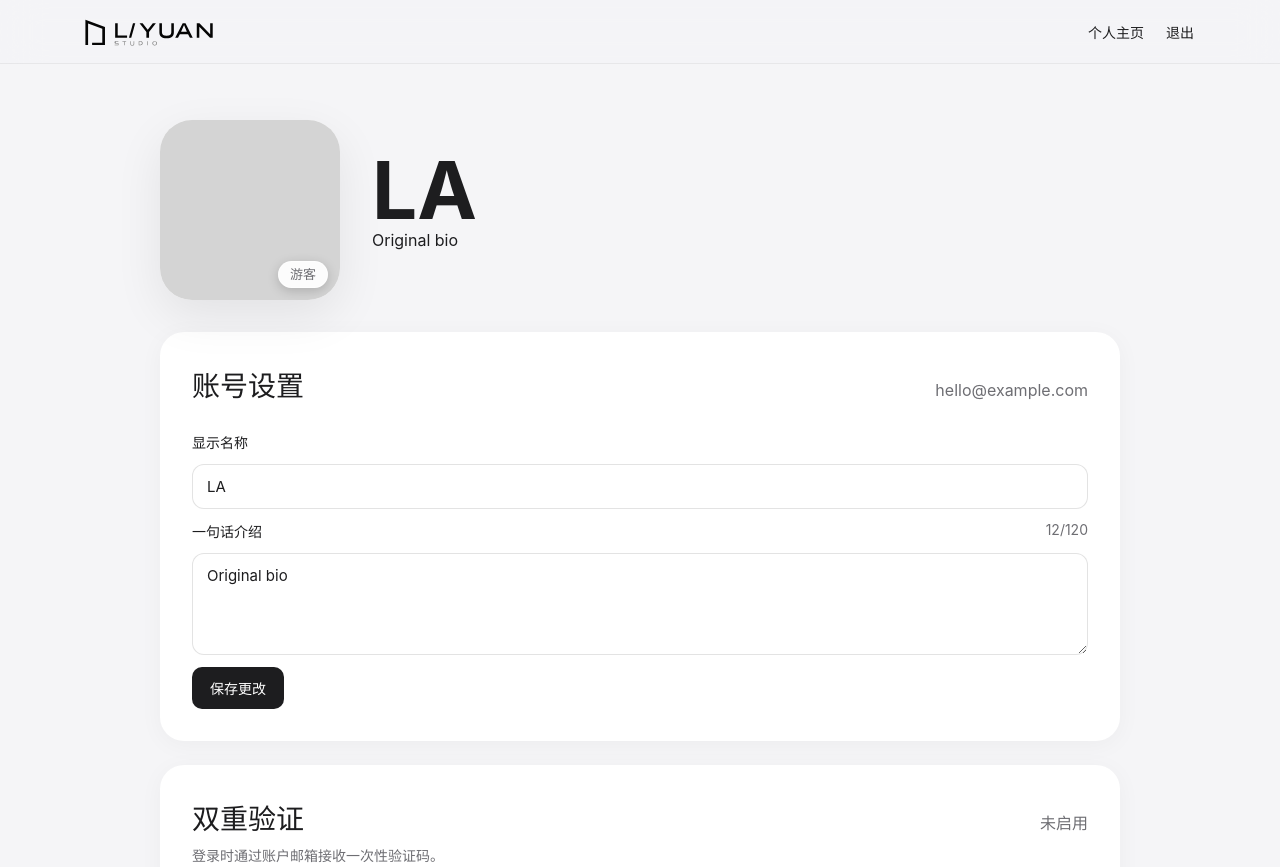
ProfilePage › saves profile changes
Expected: the heading "LA" is shown, [372, 150, 477, 230]
Expected: the button "退出" is shown, [1160, 20, 1200, 44]
Replace the text in the field labelled "显示名称" with "New LA" at x=640, y=486, box [192, 464, 1088, 509]
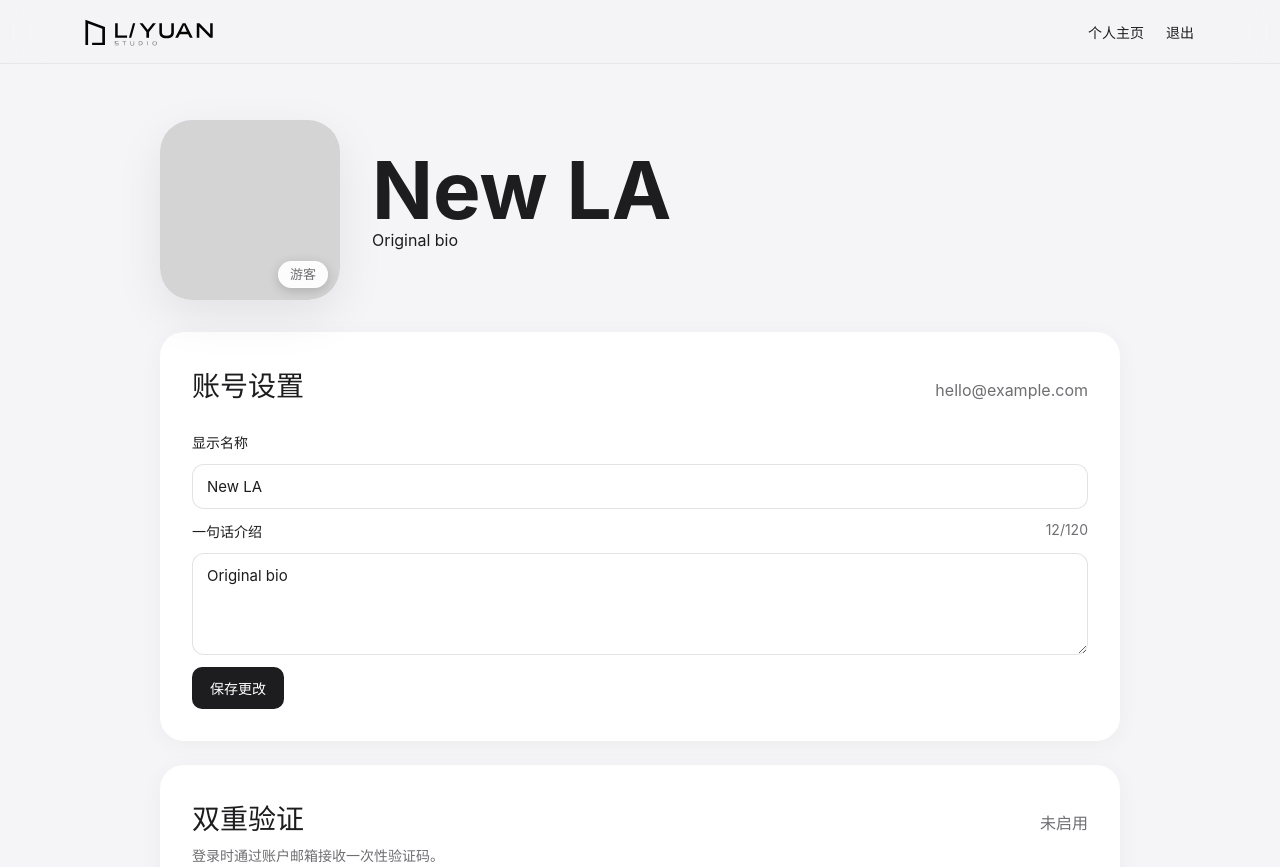
Replace the text in the text box labelled "一句话介绍" with "Updated bio" at x=640, y=604, box [192, 553, 1088, 655]
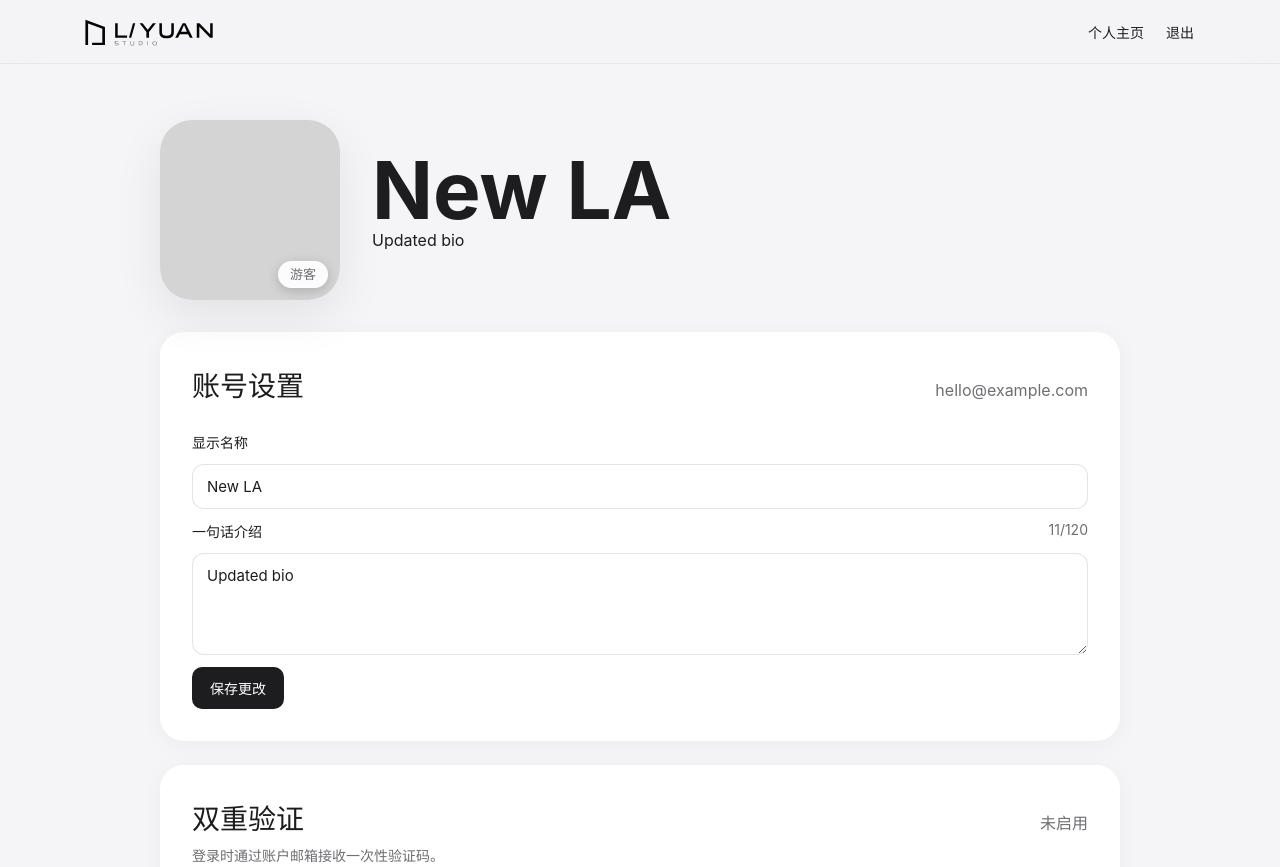
Click the button "保存更改" at x=238, y=688, box [192, 667, 284, 709]
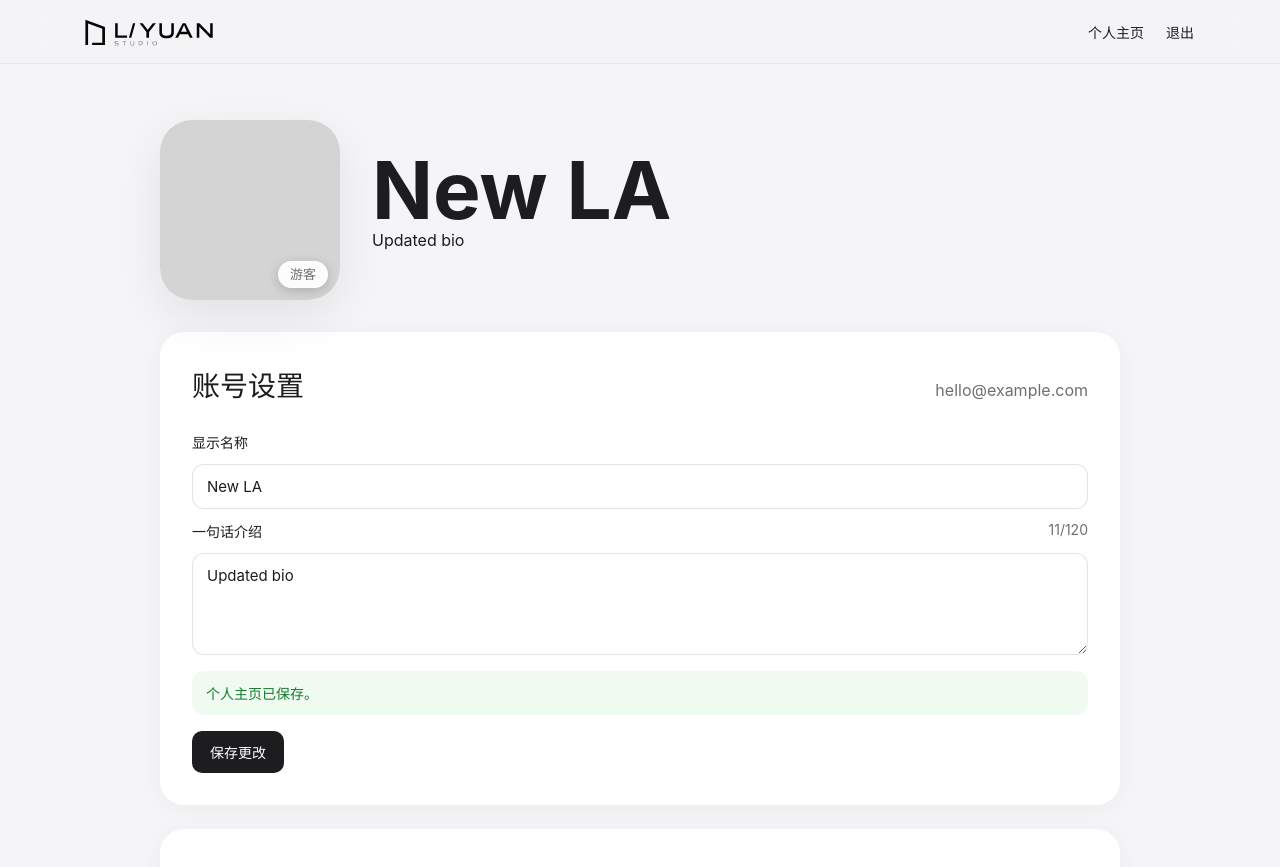
Now the message with test id "profile-message" reads "个人主页已保存。", box [206, 685, 318, 702]
